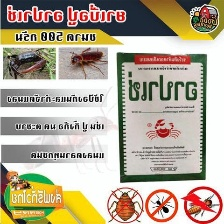insecticide: (112, 49, 211, 186)
